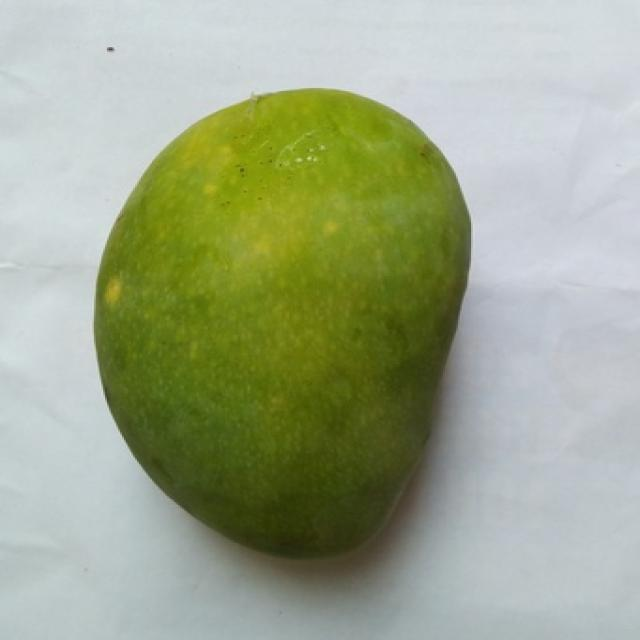Mango: (94, 89, 467, 557)
